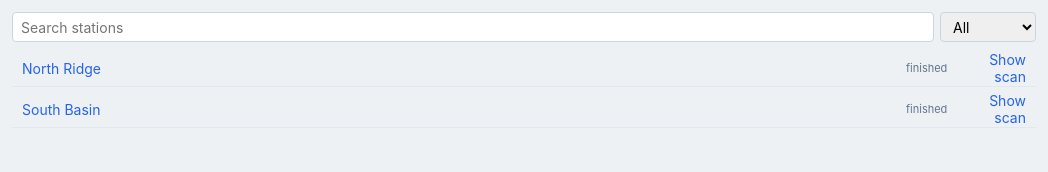
MultiRadarStationList › filters stations by name
In the search field with placeholder "Search stations": (473, 27) [12,12,934,42], type "ridge"
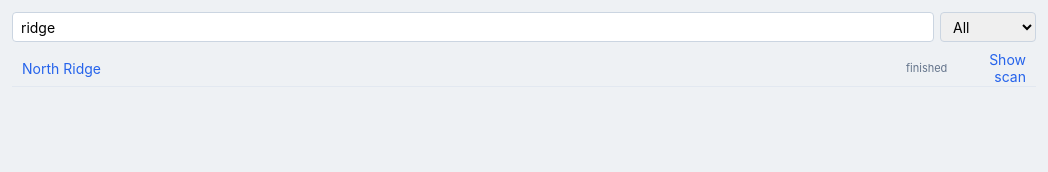
Expected: the text "North Ridge" is shown, [16,58,900,78]
Expected: the text "South Basin" is gone
